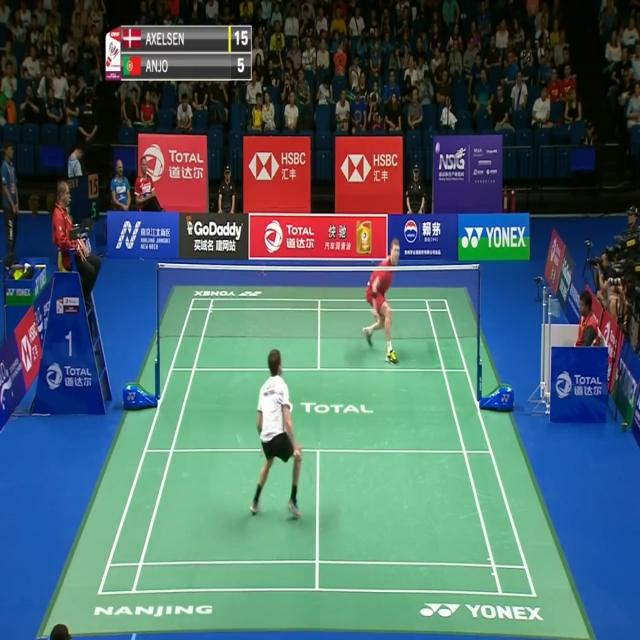Player1: (245, 346, 306, 524)
Player2: (358, 233, 406, 365)
